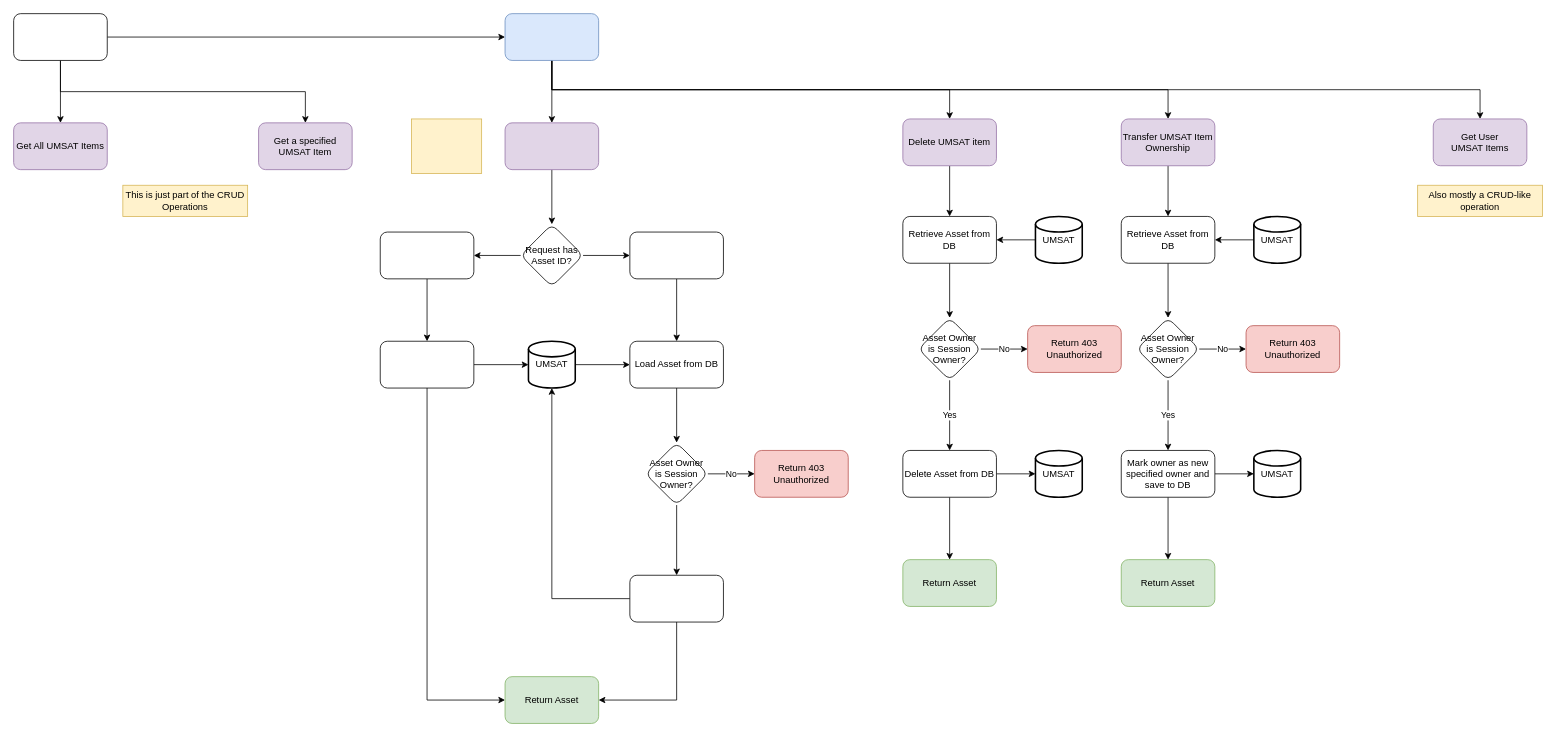
This 1556x737 diagram has some shape labels left out. The box of each missing label's shape, as (x1, y1, x2, y2) in pixels:
ADD: (379, 231, 474, 279)
Create Asset using given details, then save to DB: (379, 340, 474, 388)
Create or Edit an UMSAT Item: (504, 122, 599, 170)
EDIT: (629, 231, 723, 279)
Require Active Session: (504, 13, 599, 60)
Save Asset with new given details, then save to DB: (629, 574, 723, 622)
User Connects to the UMSAT Controller: (13, 13, 107, 60)
We'll use a simpler request object to handle this in one call: (411, 118, 482, 174)
